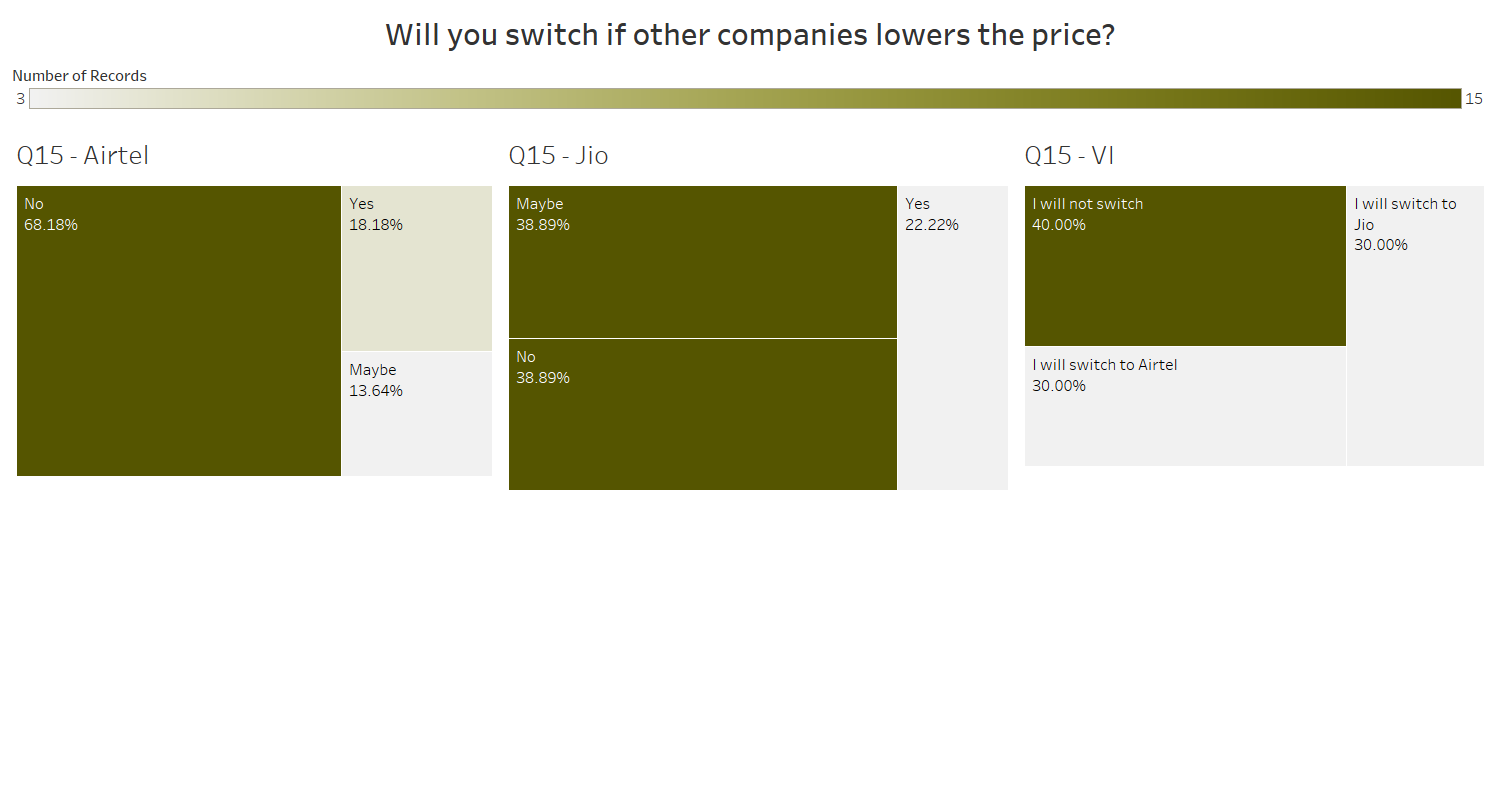

The dashboard page shown, as its layout file describes it:
{"tool":"tableau","page":{"name":"Will you switch if other companies lowers the price?","canvas":[1500,800],"ordinal":5},"visuals":[{"type":"title","box":[8,8,1484,49]},{"type":"legend","title":"Q15 - Airtel","param":"[federated.03yo3nc1uq0xte18hni1j0jtv1ar].[sum:Number of Records:qk]","box":[8,57,1484,70.3]},{"type":"worksheet","title":"Q15 - Airtel","mark":"Automatic","box":[8,127.3,492,664.7]},{"type":"worksheet","title":"Q15 - Jio","mark":"Automatic","box":[500,127.3,516,664.7]},{"type":"worksheet","title":"Q15 - VI","mark":"Automatic","box":[1016,127.3,476,664.7]}]}

Visuals, with their boxes in screenshot pixels (x1, y1, x2, y2), scaled from the page's 1500x800 canvas onto the 1500x800 screenshot:
title: 8/8/1492/57
"Q15 - Airtel" legend: 8/57/1492/127
"Q15 - Airtel" worksheet: 8/127/500/792
"Q15 - Jio" worksheet: 500/127/1016/792
"Q15 - VI" worksheet: 1016/127/1492/792
